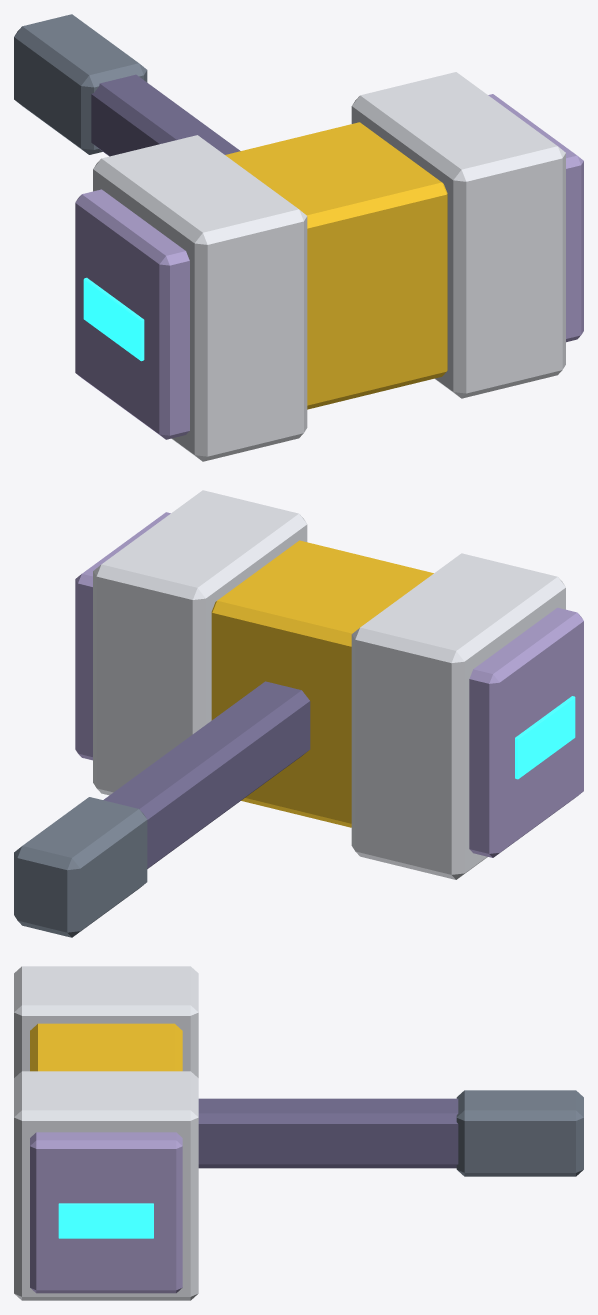
Rendered from Future_Hammer_v001.fbx.
The picture shows the model from 3 angles, top to bottom: view 1: azimuth 30°, elevation 25°; view 2: azimuth 150°, elevation 25°; view 3: azimuth 270°, elevation 25°; orthographic projection. The views are drawn at different scales.
Parts seen in each view (by area): view 1: Future_Hammer__RECEIVER_MESH; view 2: Future_Hammer__RECEIVER_MESH; view 3: Future_Hammer__RECEIVER_MESH.
Boxes of the visible parts, <box> form: Future_Hammer__RECEIVER_MESH: <box>14,14,583,461</box>; Future_Hammer__RECEIVER_MESH: <box>14,490,583,937</box>; Future_Hammer__RECEIVER_MESH: <box>14,966,583,1300</box>.
Size of the model in its own units: 1.31 by 0.66 by 1.79.
